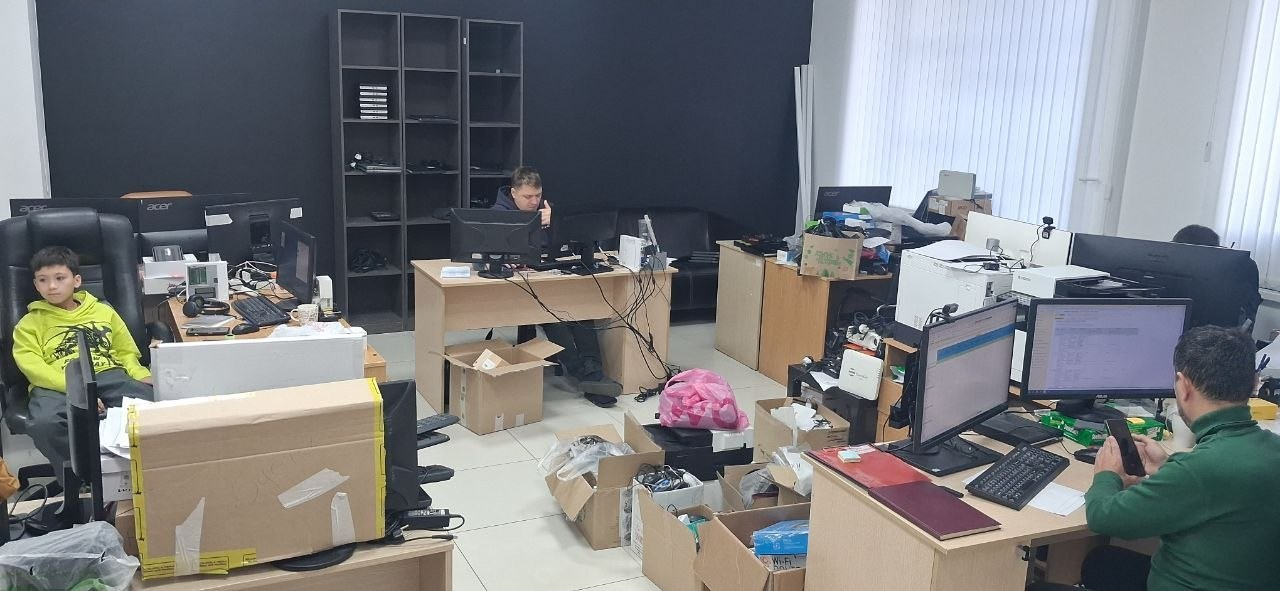cell phone: (1105, 418, 1146, 477), (187, 326, 229, 335)
